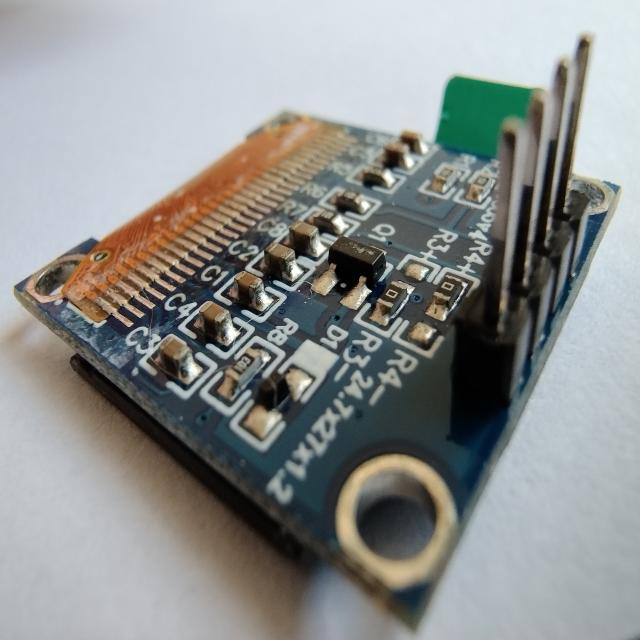oled: (2, 24, 630, 622)
